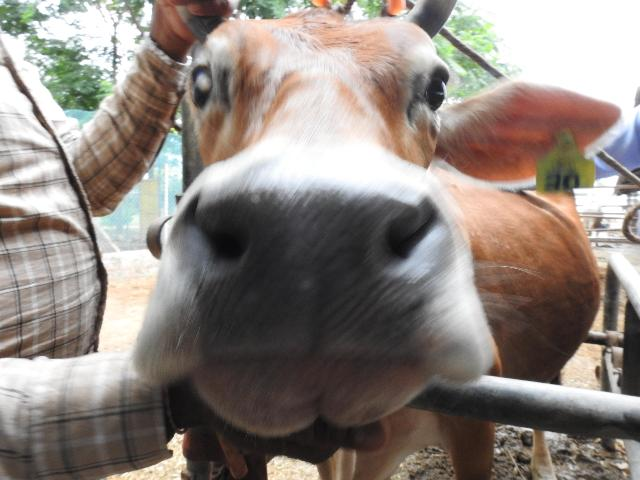Muzzle: (220, 190, 410, 350)
